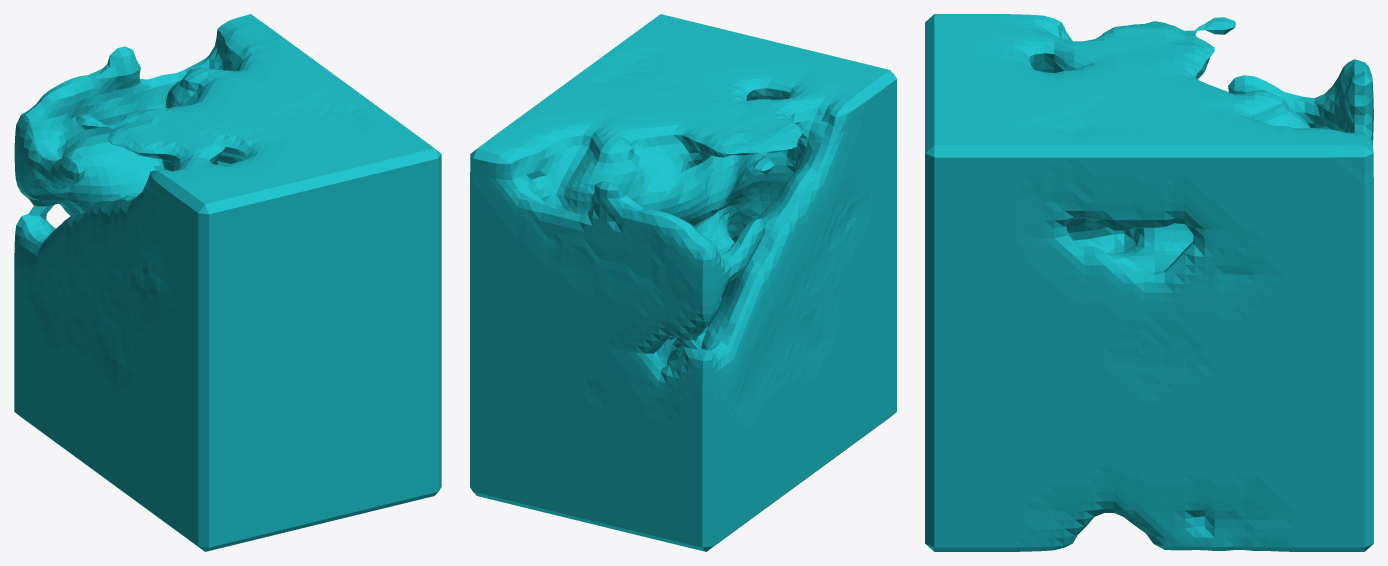
3 views of the same model, side by side, from view 1: azimuth 30°, elevation 25°; view 2: azimuth 150°, elevation 25°; view 3: azimuth 270°, elevation 25° (orthographic). The views are drawn at different scales.
Visible parts, largest first — view 1: Liquid_Domain; view 2: Liquid_Domain; view 3: Liquid_Domain.
Part boxes in pixels (box(x1,y1,x2,y2)): Liquid_Domain: box(14, 14, 441, 551); Liquid_Domain: box(470, 14, 896, 551); Liquid_Domain: box(925, 14, 1373, 551).
Size of the model in its own units: 79.09 by 108 by 108.
